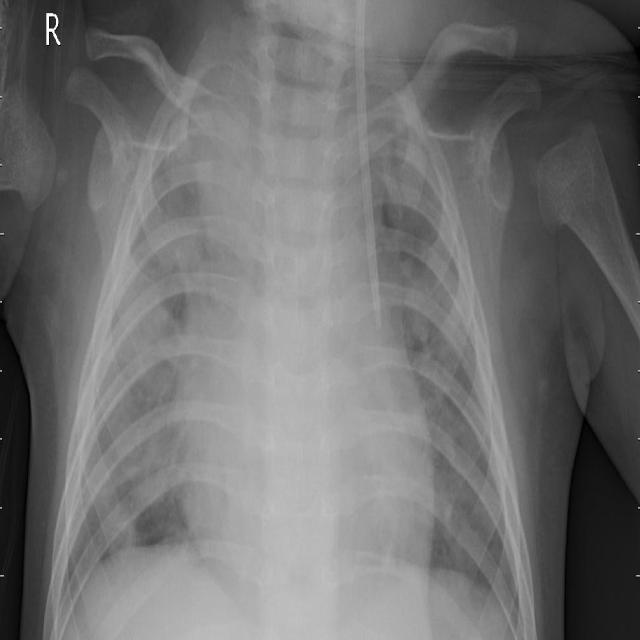low-pneumonia: (85, 268, 184, 546), (177, 75, 242, 308), (353, 59, 418, 265)
